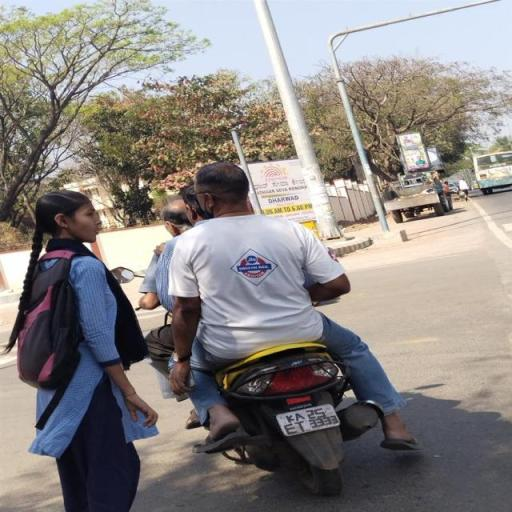tripple riding: (100, 139, 344, 356)
